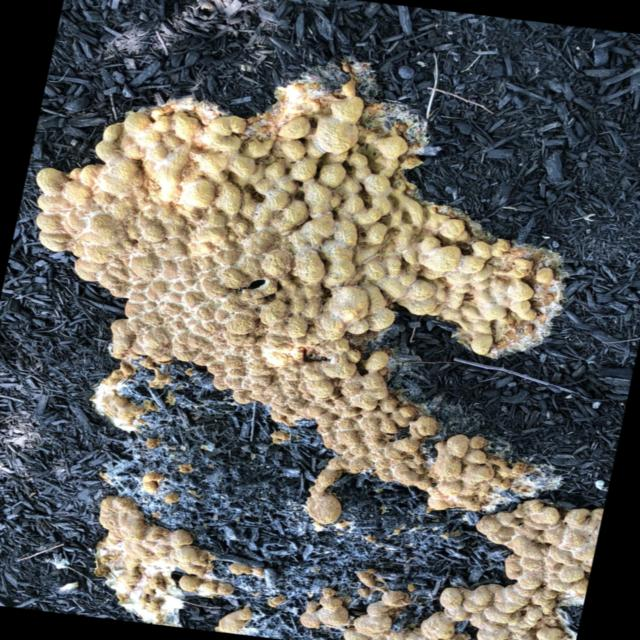Dog_vomit_slime_mold: (31, 48, 640, 640)
